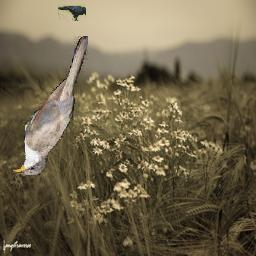Crow: (58, 5, 86, 21)
Cuckoo: (10, 37, 89, 176)
